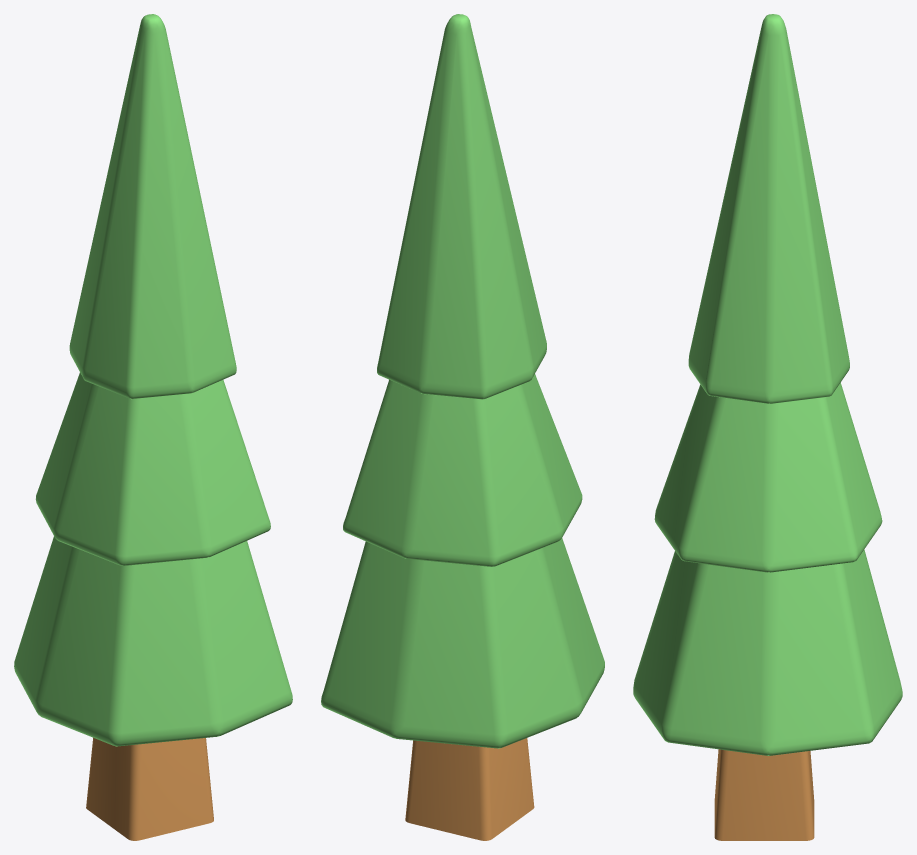
Rendered from Tanne3.fbx.
3 views of the same model, side by side, from view 1: azimuth 30°, elevation 25°; view 2: azimuth 150°, elevation 25°; view 3: azimuth 270°, elevation 25° (orthographic).
Parts seen in each view (by area): view 1: SM_Tanne_003; view 2: SM_Tanne_003; view 3: SM_Tanne_003.
Boxes of the visible parts, <box> form: SM_Tanne_003: <box>14,14,292,840</box>; SM_Tanne_003: <box>321,14,604,840</box>; SM_Tanne_003: <box>633,14,902,840</box>.
Size of the model in its own units: 285 by 927 by 281.
